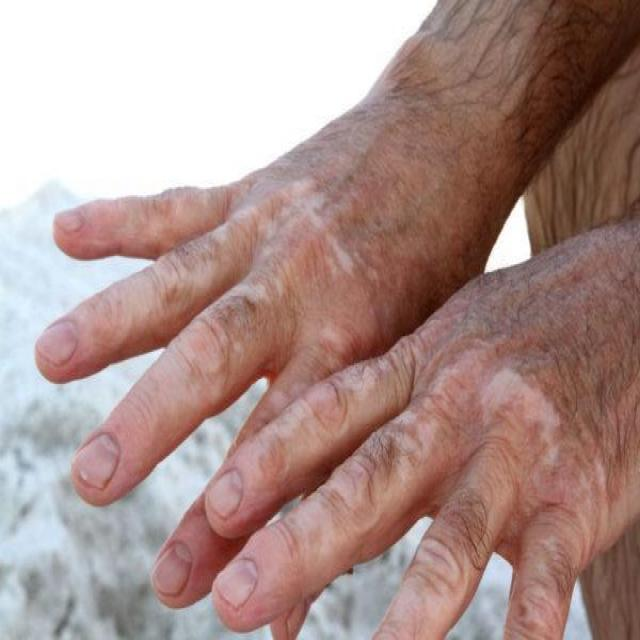vitiligo: (166, 176, 368, 388), (421, 350, 610, 556)
